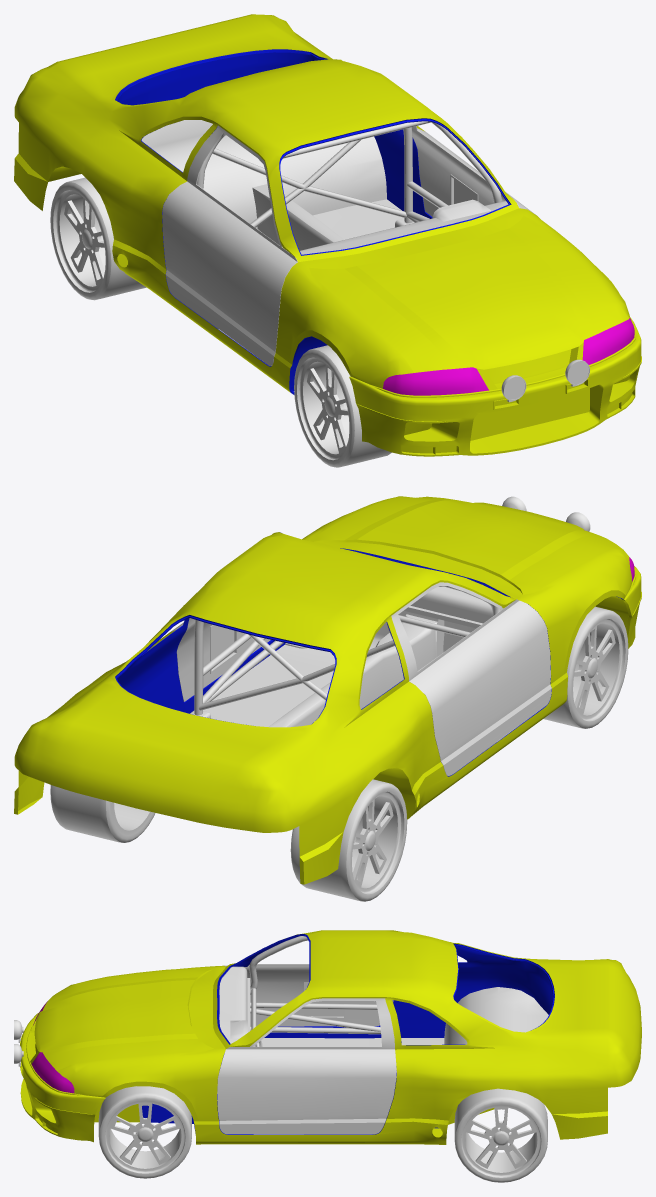
The model's file is R33Rally-Car.fbx.
The picture shows the model from 3 angles, top to bottom: view 1: azimuth 30°, elevation 25°; view 2: azimuth 150°, elevation 25°; view 3: azimuth 270°, elevation 25°; orthographic projection. The views are drawn at different scales.
Parts seen in each view (by area): view 1: Outside Frame, StockBonnet, Door.L, StockFBumper, Floor_Low, Cylinder.002, Cylinder.003, NurbsPath.001, Dash_Low, StockLights.R, StockLights.L; view 2: Outside Frame, Door.L, StockBonnet, Floor_Low, Cylinder.003, Cylinder.002, NurbsPath.001, Cylinder.001, Dash_Low, StockFBumper, Front Interior mats; view 3: Outside Frame, Door.L, StockBonnet, Cylinder.001, Cylinder, StockFBumper, Floor_Low, NurbsPath.001, Dash_Low, StockLights.L.
Part boxes in pixels (box(x1,y1,x2,y2)): Outside Frame: box(14, 14, 630, 394); StockBonnet: box(309, 215, 623, 372); Door.L: box(162, 125, 536, 365); StockFBumper: box(349, 317, 641, 456); Floor_Low: box(141, 120, 403, 250); Cylinder.002: box(294, 345, 391, 467); Cylinder.003: box(50, 177, 146, 300); NurbsPath.001: box(196, 121, 502, 227); Dash_Low: box(300, 199, 508, 254); StockLights.R: box(383, 367, 488, 395); StockLights.L: box(582, 318, 634, 364); Outside Frame: box(14, 496, 632, 884); Door.L: box(169, 582, 551, 775); StockBonnet: box(310, 496, 622, 594); Floor_Low: box(203, 611, 438, 727); Cylinder.003: box(290, 779, 407, 901); Cylinder.002: box(543, 606, 628, 728); NurbsPath.001: box(194, 586, 500, 715); Cylinder.001: box(50, 785, 155, 842); Dash_Low: box(401, 563, 493, 628); StockFBumper: box(595, 566, 641, 648); Front Interior mats: box(369, 610, 476, 657); Outside Frame: box(57, 930, 641, 1144); Door.L: box(217, 964, 396, 1134); StockBonnet: box(34, 968, 213, 1070); Cylinder.001: box(454, 1088, 547, 1182); Cylinder: box(98, 1086, 191, 1178); StockFBumper: box(20, 1013, 141, 1142); Floor_Low: box(217, 987, 548, 1078); NurbsPath.001: box(249, 936, 380, 1046); Dash_Low: box(219, 966, 250, 1043); StockLights.L: box(31, 1052, 74, 1093).
Size of the model in its own units: 1.85 by 1.29 by 4.32.
